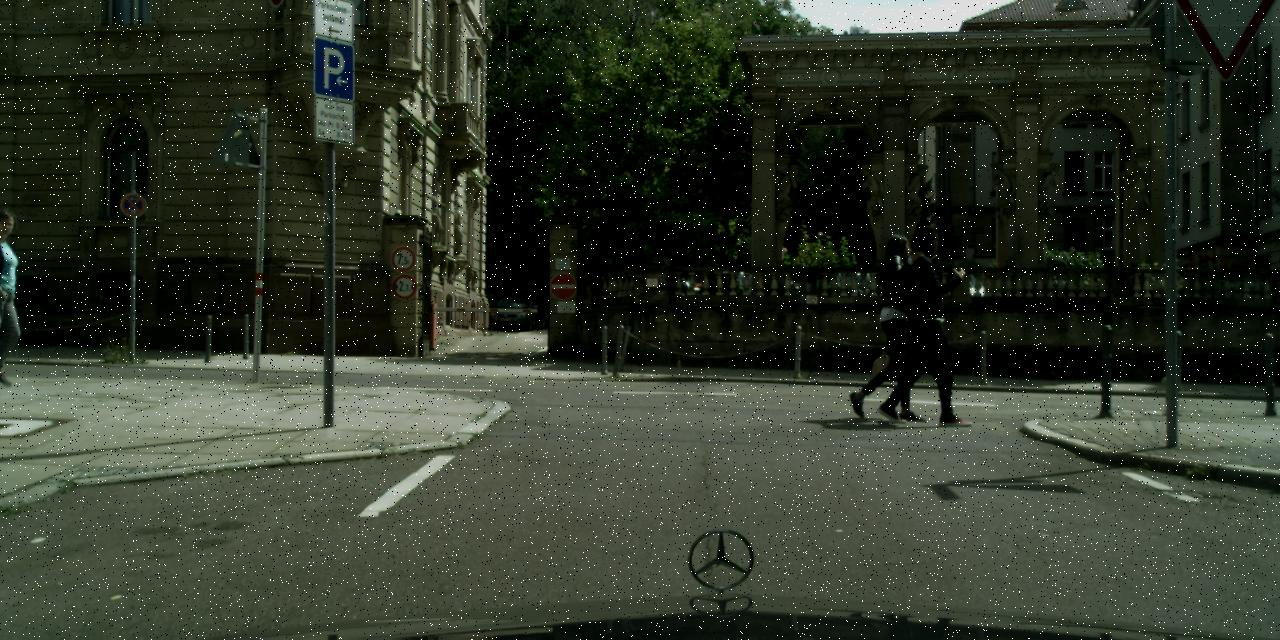ped: (882, 225, 962, 422), (852, 234, 927, 415), (0, 208, 36, 383)
